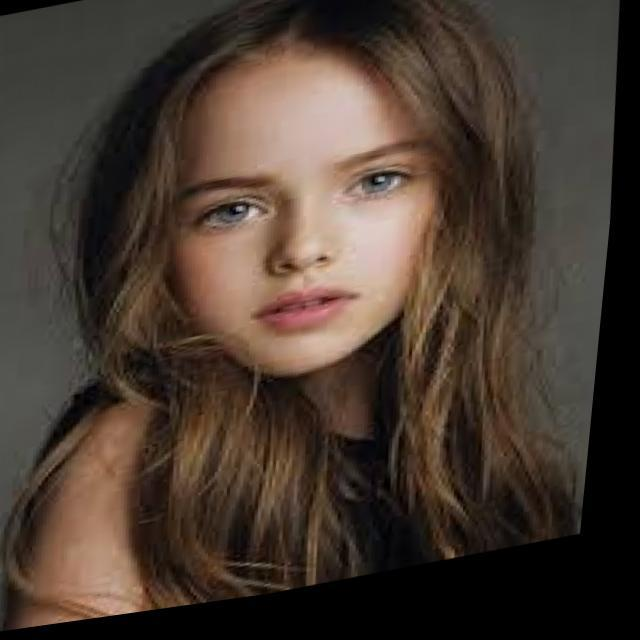Nonhelmet: (80, 5, 502, 380)
